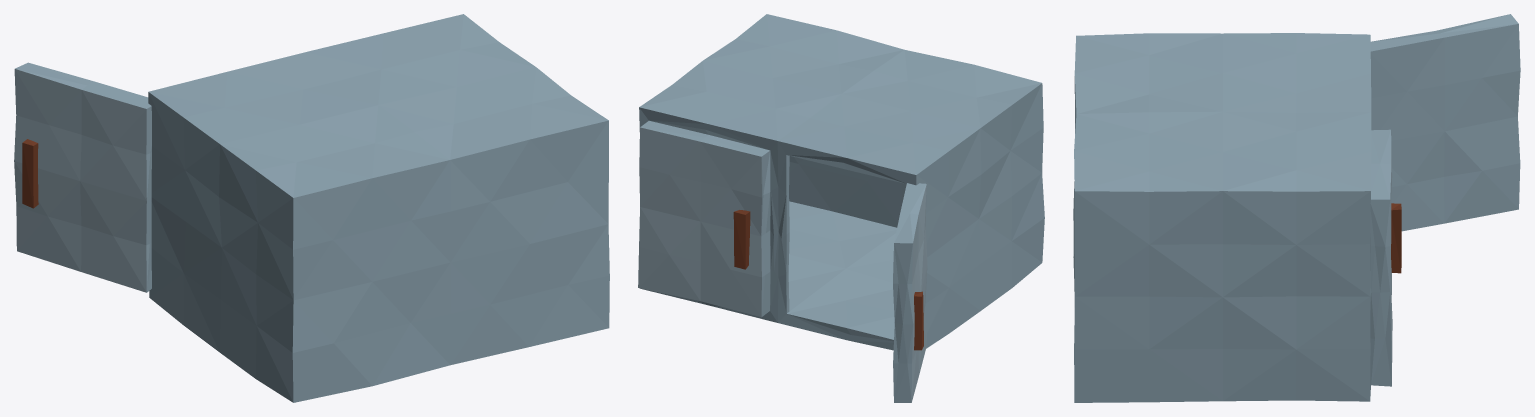
Rendered from kitchen_cabinetopen.fbx.
The picture shows the model from 3 angles, left to right: view 1: azimuth 30°, elevation 25°; view 2: azimuth 150°, elevation 25°; view 3: azimuth 270°, elevation 25°; orthographic projection. The views are drawn at different scales.
Visible parts, largest first — view 1: kitchen_cabinetopen; view 2: kitchen_cabinetopen; view 3: kitchen_cabinetopen.
Boxes of the visible parts, left/top/right/bottom form: kitchen_cabinetopen: left=14, top=14, right=609, bottom=402; kitchen_cabinetopen: left=638, top=14, right=1044, bottom=402; kitchen_cabinetopen: left=1073, top=14, right=1520, bottom=402.
Size of the model in its own units: 94.87 by 49.64 by 94.16.
